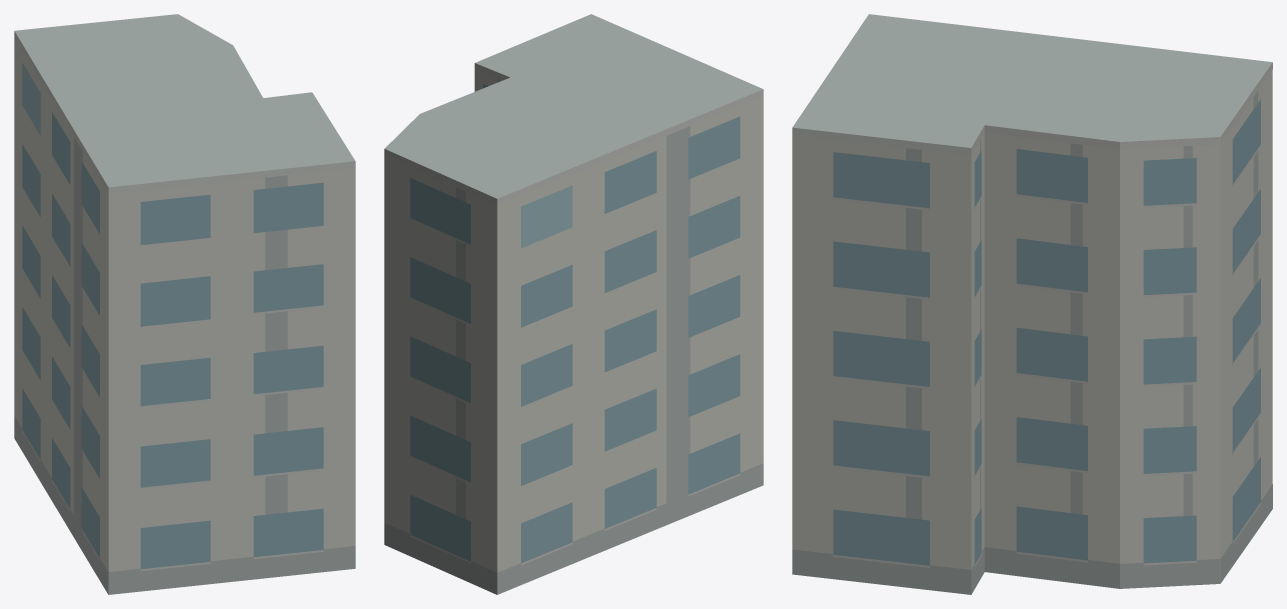
Rendered from survey-upis-32875030.glb.
3 views of the same model, side by side, from view 1: azimuth 30°, elevation 25°; view 2: azimuth 150°, elevation 25°; view 3: azimuth 270°, elevation 25° (orthographic). The views are drawn at different scales.
Visible parts, largest first — view 1: survey-upis-32875030.tmp; view 2: survey-upis-32875030.tmp; view 3: survey-upis-32875030.tmp.
Boxes of the visible parts, box(x1,y1,x2,y2) form: survey-upis-32875030.tmp: box(14, 14, 355, 594); survey-upis-32875030.tmp: box(384, 14, 763, 594); survey-upis-32875030.tmp: box(792, 14, 1272, 594).
Size of the model in its own units: 9.3 by 14.45 by 14.09.
